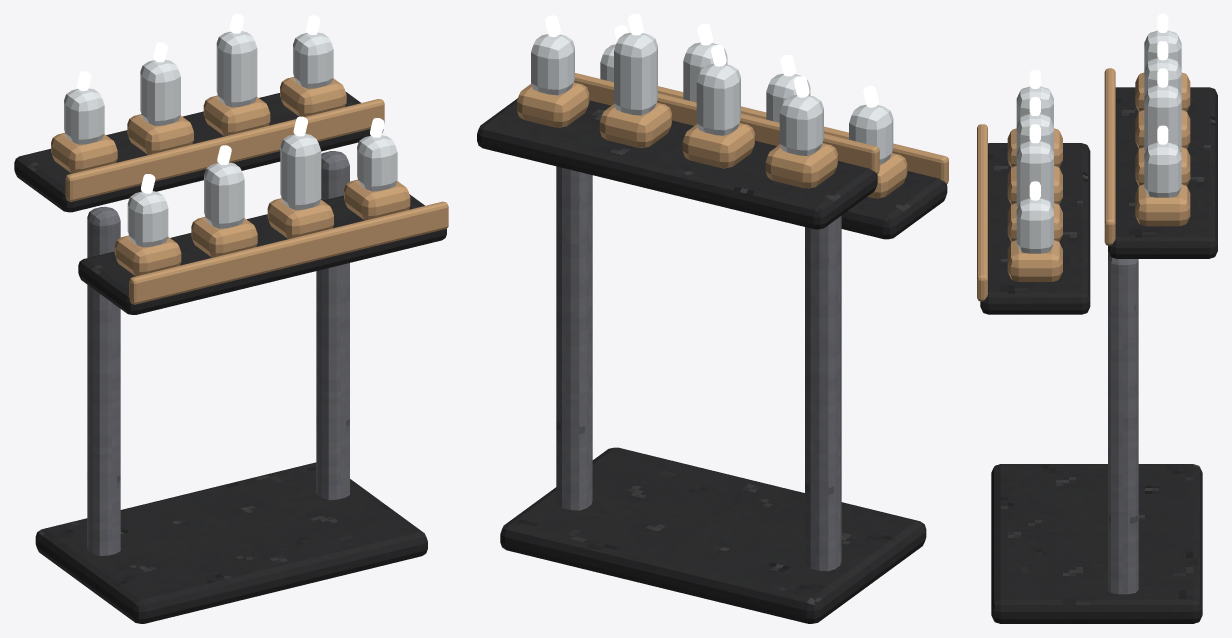
File: decor_chapel_votive_stand.glb
The picture shows the model from 3 angles, left to right: view 1: azimuth 30°, elevation 25°; view 2: azimuth 150°, elevation 25°; view 3: azimuth 270°, elevation 25°; orthographic projection. The views are drawn at different scales.
Parts seen in each view (by area): view 1: DEC_ChapelVotiveStand__Foot, DEC_ChapelVotiveStand__Leg_0, DEC_ChapelVotiveStand__Tray_Lip_0, DEC_ChapelVotiveStand__Leg_1, DEC_ChapelVotiveStand__Tray_Lip_1, DEC_ChapelVotiveStand__Tray_0, DEC_ChapelVotiveStand__Tray_1, DEC_ChapelVotiveStand__Wax_1_2, DEC_ChapelVotiveStand__Wax_0_2, DEC_ChapelVotiveStand__Wax_1_1, DEC_ChapelVotiveStand__Wax_0_1, DEC_ChapelVotiveStand__Wax_0_0 (+11 smaller); view 2: DEC_ChapelVotiveStand__Foot, DEC_ChapelVotiveStand__Tray_1, DEC_ChapelVotiveStand__Leg_0, DEC_ChapelVotiveStand__Leg_1, DEC_ChapelVotiveStand__Tray_0, DEC_ChapelVotiveStand__Tray_Lip_1, DEC_ChapelVotiveStand__Wax_1_2, DEC_ChapelVotiveStand__Wax_1_1, DEC_ChapelVotiveStand__Wax_1_0, DEC_ChapelVotiveStand__Wax_1_3, DEC_ChapelVotiveStand__Cup_1_0, DEC_ChapelVotiveStand__Cup_1_1 (+7 smaller); view 3: DEC_ChapelVotiveStand__Foot, DEC_ChapelVotiveStand__Tray_1, DEC_ChapelVotiveStand__Leg_1, DEC_ChapelVotiveStand__Tray_0, DEC_ChapelVotiveStand__Tray_Lip_1, DEC_ChapelVotiveStand__Wax_1_2, DEC_ChapelVotiveStand__Wax_0_2, DEC_ChapelVotiveStand__Wax_1_3, DEC_ChapelVotiveStand__Wax_0_3, DEC_ChapelVotiveStand__Tray_Lip_0, DEC_ChapelVotiveStand__Cup_1_3, DEC_ChapelVotiveStand__Cup_0_3 (+10 smaller).
Boxes of the visible parts, x1,y1,x2,y2 form: DEC_ChapelVotiveStand__Foot: [35, 462, 427, 623]; DEC_ChapelVotiveStand__Leg_0: [87, 206, 120, 555]; DEC_ChapelVotiveStand__Tray_Lip_0: [129, 201, 448, 304]; DEC_ChapelVotiveStand__Leg_1: [316, 151, 349, 500]; DEC_ChapelVotiveStand__Tray_Lip_1: [65, 99, 384, 201]; DEC_ChapelVotiveStand__Tray_0: [78, 194, 446, 314]; DEC_ChapelVotiveStand__Tray_1: [14, 92, 383, 212]; DEC_ChapelVotiveStand__Wax_1_2: [216, 31, 257, 107]; DEC_ChapelVotiveStand__Wax_0_2: [280, 134, 321, 210]; DEC_ChapelVotiveStand__Wax_1_1: [140, 59, 180, 125]; DEC_ChapelVotiveStand__Wax_0_1: [204, 162, 244, 228]; DEC_ChapelVotiveStand__Wax_0_0: [127, 191, 168, 247]; DEC_ChapelVotiveStand__Foot: [500, 447, 926, 623]; DEC_ChapelVotiveStand__Tray_1: [477, 98, 877, 229]; DEC_ChapelVotiveStand__Leg_0: [805, 215, 841, 571]; DEC_ChapelVotiveStand__Leg_1: [556, 166, 592, 510]; DEC_ChapelVotiveStand__Tray_0: [841, 171, 947, 239]; DEC_ChapelVotiveStand__Tray_Lip_1: [574, 73, 879, 174]; DEC_ChapelVotiveStand__Wax_1_2: [614, 32, 657, 115]; DEC_ChapelVotiveStand__Wax_1_1: [696, 63, 740, 135]; DEC_ChapelVotiveStand__Wax_1_0: [779, 94, 823, 155]; DEC_ChapelVotiveStand__Wax_1_3: [531, 34, 574, 95]; DEC_ChapelVotiveStand__Cup_1_0: [765, 143, 837, 188]; DEC_ChapelVotiveStand__Cup_1_1: [682, 123, 754, 168]; DEC_ChapelVotiveStand__Foot: [991, 464, 1202, 623]; DEC_ChapelVotiveStand__Tray_1: [1108, 87, 1217, 258]; DEC_ChapelVotiveStand__Leg_1: [1108, 254, 1138, 594]; DEC_ChapelVotiveStand__Tray_0: [980, 143, 1090, 314]; DEC_ChapelVotiveStand__Tray_Lip_1: [1104, 68, 1115, 245]; DEC_ChapelVotiveStand__Wax_1_2: [1144, 85, 1181, 151]; DEC_ChapelVotiveStand__Wax_0_2: [1016, 141, 1053, 207]; DEC_ChapelVotiveStand__Wax_1_3: [1144, 142, 1181, 197]; DEC_ChapelVotiveStand__Wax_0_3: [1016, 198, 1053, 253]; DEC_ChapelVotiveStand__Tray_Lip_0: [977, 124, 987, 301]; DEC_ChapelVotiveStand__Cup_1_3: [1135, 184, 1190, 226]; DEC_ChapelVotiveStand__Cup_0_3: [1007, 240, 1062, 281].
Size of the model in its own units: 0.84 by 1.27 by 0.5475.
5 materials, 2 textured.
